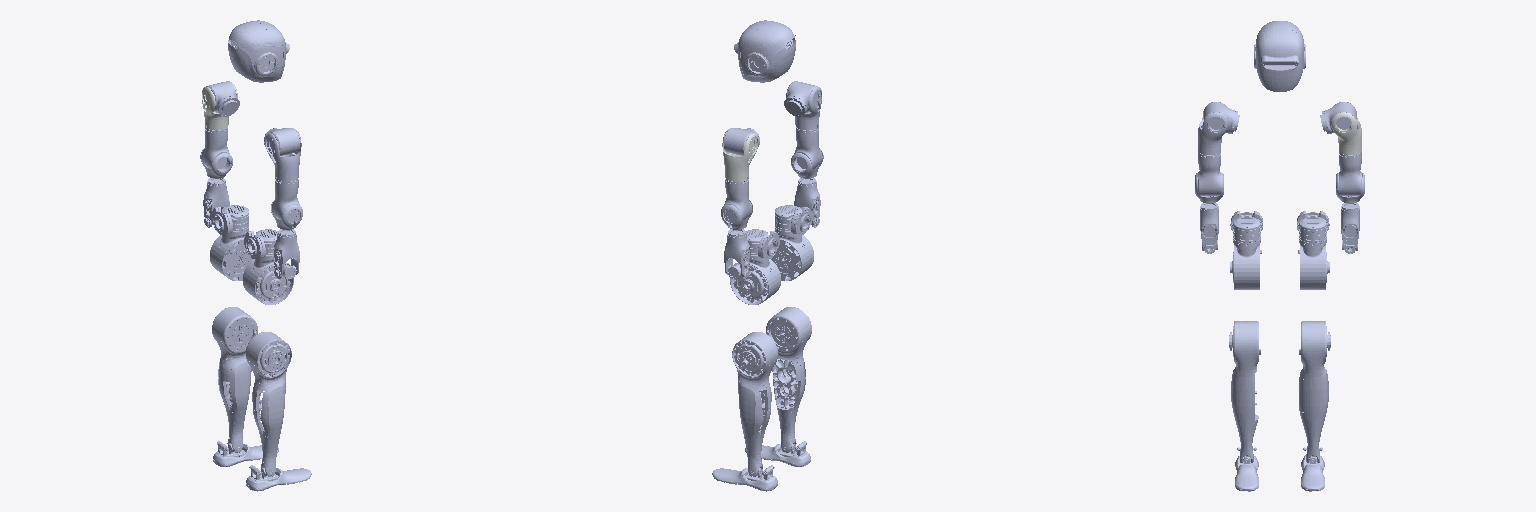
--- What the picture shows (computed from the rendered views, not written in the file) ---
The picture shows the robot from 3 angles, left to right: view 1: azimuth 30°, elevation 25°; view 2: azimuth 150°, elevation 25°; view 3: azimuth 270°, elevation 25°; orthographic projection.
Robot: Q1 — 30 links, 29 joints (29 revolute); root link pelvis_link; default pose: every joint at zero.
Links seen in each view (by area): view 1: R_knee_link, L_knee_link, head_pitch_link, R_hip_yaw_link, L_hip_yaw_link, R_ankle_roll_link, R_shoulder_roll_link, L_hip_roll_link, R_forearm_yaw_link, L_shoulder_yaw_link, L_ankle_roll_link, R_hip_roll_link (+5 smaller); view 2: L_knee_link, R_knee_link, head_pitch_link, L_hip_yaw_link, R_hip_yaw_link, L_ankle_roll_link, L_shoulder_roll_link, R_hip_roll_link, L_forearm_yaw_link, R_shoulder_yaw_link, R_ankle_roll_link, L_hip_roll_link (+5 smaller); view 3: L_knee_link, R_knee_link, head_pitch_link, L_hip_yaw_link, R_hip_yaw_link, L_shoulder_yaw_link, R_shoulder_yaw_link, L_shoulder_roll_link, R_shoulder_roll_link, L_hip_roll_link, R_hip_roll_link, L_forearm_yaw_link (+5 smaller).
Boxes of the visible links, x1=… form: R_knee_link: x1=246, y1=332, x2=291, y2=476; L_knee_link: x1=212, y1=307, x2=257, y2=452; head_pitch_link: x1=228, y1=20, x2=289, y2=82; R_hip_yaw_link: x1=243, y1=255, x2=293, y2=304; L_hip_yaw_link: x1=210, y1=227, x2=252, y2=280; R_ankle_roll_link: x1=246, y1=465, x2=311, y2=491; R_shoulder_roll_link: x1=265, y1=129, x2=301, y2=181; L_hip_roll_link: x1=211, y1=205, x2=248, y2=234; R_forearm_yaw_link: x1=274, y1=229, x2=299, y2=278; L_shoulder_yaw_link: x1=201, y1=127, x2=229, y2=169; L_ankle_roll_link: x1=213, y1=441, x2=278, y2=466; R_hip_roll_link: x1=244, y1=229, x2=277, y2=258; L_knee_link: x1=732, y1=332, x2=777, y2=476; R_knee_link: x1=766, y1=307, x2=811, y2=452; head_pitch_link: x1=734, y1=20, x2=795, y2=82; L_hip_yaw_link: x1=730, y1=255, x2=780, y2=304; R_hip_yaw_link: x1=771, y1=227, x2=813, y2=280; L_ankle_roll_link: x1=712, y1=465, x2=777, y2=491; L_shoulder_roll_link: x1=722, y1=129, x2=758, y2=181; R_hip_roll_link: x1=775, y1=205, x2=812, y2=234; L_forearm_yaw_link: x1=724, y1=229, x2=749, y2=278; R_shoulder_yaw_link: x1=794, y1=127, x2=822, y2=169; R_ankle_roll_link: x1=745, y1=441, x2=810, y2=466; L_hip_roll_link: x1=746, y1=229, x2=779, y2=258; L_knee_link: x1=1299, y1=321, x2=1330, y2=462; R_knee_link: x1=1229, y1=321, x2=1260, y2=462; head_pitch_link: x1=1254, y1=21, x2=1305, y2=91; L_hip_yaw_link: x1=1298, y1=238, x2=1329, y2=289; R_hip_yaw_link: x1=1230, y1=238, x2=1261, y2=289; L_shoulder_yaw_link: x1=1339, y1=152, x2=1361, y2=195; R_shoulder_yaw_link: x1=1198, y1=152, x2=1220, y2=195; L_shoulder_roll_link: x1=1331, y1=102, x2=1361, y2=154; R_shoulder_roll_link: x1=1198, y1=102, x2=1228, y2=154; L_hip_roll_link: x1=1297, y1=211, x2=1329, y2=242; R_hip_roll_link: x1=1230, y1=211, x2=1262, y2=242; L_forearm_yaw_link: x1=1341, y1=203, x2=1359, y2=253.
Size in the robot's own frame: 0.2521 by 0.5935 by 1.72 metres.
Meshes: 30 distinct files referenced, 24 mesh visuals loaded (24 binary STL); not drawn: 6 (reference not matched to a file when rendering).

The robot description file, URDF, robot "Q1":
<?xml version="1.0" encoding="utf-8"?>
<robot name="Q1">
<!-- pelvis -->
  <link name="pelvis_link">
    <inertial>
      <origin xyz="-0.0487762750387871 -9.11331157705215E-19 -0.0596500367715889" rpy="0 0 0" />
      <mass value="4.85375453300402" />
      <inertia ixx="0.0338660906248352" ixy="7.84543415810989E-18" ixz="2.23402732944577E-05" iyy="0.0157992435830402" iyz="-5.16210957298333E-18" izz="0.0392683813104757" />
    </inertial>
    <visual>
      <origin xyz="0 0 0" rpy="0 0 0" />
      <geometry>
        <mesh filename="package://Q1/meshes/pelvis_link.STL" />
      </geometry>
      <material name="">
        <color rgba="0.792156862745098 0.819607843137255 0.933333333333333 1" />
      </material>
    </visual>
    <collision>
      <origin xyz="-0.1 0 -0.05" rpy="0 0 0" />
      <geometry>
        <box size="0.08 0.35 0.1"/>
        <!-- <mesh filename="package://Q1/meshes/pelvis_link.STL" /> -->
      </geometry>
    </collision>
  </link>

<!-- Left leg -->
  <link name="L_hip_roll_link">
    <inertial>
      <origin xyz="-0.0141876569739443 -3.74949976629513E-06 0.00614400116829972" rpy="0 0 0" />
      <mass value="1.25324354201009" />
      <inertia ixx="0.00131833796382136" ixy="-1.82413613026061E-07" ixz="-3.76732121233135E-05" iyy="0.0017092864744351" iyz="-1.36088720808342E-07" izz="0.00213328110485283" />
    </inertial>
    <visual>
      <origin xyz="0 0 0" rpy="0 0 0" />
      <geometry>
        <mesh filename="package://Q1/meshes/L_hip_roll_link.STL" />
      </geometry>
      <material name="">
        <color rgba="0.792156862745098 0.819607843137255 0.933333333333333 1" />
      </material>
    </visual>
    <collision>
      <origin xyz="0 0 0" rpy="0 0 0" />
      <geometry>
        <!-- <mesh filename="package://Q1/meshes/L_hip_roll_link.STL" /> -->
        <cylinder radius="0.025" length="0.017"/>
      </geometry>
    </collision>
  </link>
  <joint name="L_hip_roll_joint" type="revolute"><!-- EC-A8112-P1-18 -->
    <origin xyz="0 0.115 -0.05874" rpy="0 0 0" />
    <parent link="pelvis_link" />
    <child link="L_hip_roll_link" />
    <axis xyz="1 0 0" />
    <limit lower="-0.12" upper="0.83" effort="90" velocity="16.441001554" />
  </joint>
  <link name="L_hip_yaw_link">
    <inertial>
      <origin xyz="-6.22829924863006E-10 -3.97470999169425E-09 -0.127754873862154" rpy="0 0 0" />
      <mass value="3.64631909766459" />
      <inertia ixx="0.0111351389929927" ixy="3.30651426492064E-09" ixz="9.12301100309305E-10" iyy="0.0139968062197672" iyz="1.82839173063689E-09" izz="0.0074705457114106" />
    </inertial>
    <visual>
      <origin xyz="0 0 0" rpy="0 0 0" />
      <geometry>
        <mesh filename="package://Q1/meshes/L_hip_yaw_link.STL" />
      </geometry>
      <material name="">
        <color rgba="0.792156862745098 0.819607843137255 0.933333333333333 1" />
      </material>
    </visual>
    <collision>
      <origin xyz="-2.7849E-05 -0.0008477 -0.11745" rpy="1.570796327 0 0" />
      <geometry>
        <!-- <mesh filename="package://Q1/meshes/L_hip_yaw_link.STL" /> -->
        <cylinder radius="0.025" length="0.04"/>
      </geometry>
    </collision>
  </link>
  <joint name="L_hip_yaw_joint" type="revolute"><!-- EC-6408-P2-25 -->
    <origin xyz="0 0 0" rpy="0 0 0" />
    <parent link="L_hip_roll_link" />
    <child link="L_hip_yaw_link" />
    <axis xyz="0 0 1" />
    <limit lower="-0.89" upper="0.89" effort="60" velocity="15.603243513" />
  </joint>
  <link name="L_hip_pitch_link">
    <inertial>
      <origin xyz="0.0118734795001622 -1.3689291630814E-08 -0.135284360088896" rpy="0 0 0" />
      <mass value="2.04935184270293" />
      <inertia ixx="0.0322378233994432" ixy="9.83274049113261E-10" ixz="0.000317233508166188" iyy="0.0312492836829024" iyz="2.96866335989203E-09" izz="0.00859313858129664" />
    </inertial>
    <visual>
      <origin xyz="0 0 0" rpy="0 0 0" />
      <geometry>
        <mesh filename="package://Q1/meshes/L_hip_pitch_link.STL" />
      </geometry>
      <material name="">
        <color rgba="0.792156862745098 0.819607843137255 0.933333333333333 1" />
      </material>
    </visual>
    <collision>
      <origin xyz="0 0 -0.12" rpy="0 0 0" />
      <geometry>
        <cylinder radius="0.025" length="0.09"/>
      </geometry>
    </collision>
  </link>
  <joint name="L_hip_pitch_joint" type="revolute"><!-- EC-A10020-P2-24 -->
    <origin xyz="0 0 -0.14" rpy="0 0 0" />
    <parent link="L_hip_yaw_link" />
    <child link="L_hip_pitch_link" />
    <axis xyz="0 1 0" />
    <limit lower="-0.89" upper="1.64" effort="330" velocity="12.88052988" />
  </joint>
  <link name="L_knee_link">
    <inertial>
      <origin xyz="0.00610185508162121 -1.09286336369419E-08 -0.130319266126611" rpy="0 0 0" />
      <mass value="5.84550624070991" />
      <inertia ixx="0.103290256491282" ixy="-4.36471539759122E-09" ixz="0.00248994631602866" iyy="0.106156568969131" iyz="-6.56129372231401E-10" izz="0.00906089499816433" />
    </inertial>
    <visual>
      <origin xyz="0 0 0" rpy="0 0 0" />
      <geometry>
        <mesh filename="package://Q1/meshes/L_knee_link.STL" />
      </geometry>
      <material name="">
        <color rgba="0.792156862745098 0.819607843137255 0.933333333333333 1" />
      </material>
    </visual>
    <collision>
      <origin xyz="0 0 -0.19" rpy="0 0 0" />
      <geometry>
        <cylinder radius="0.025" length="0.1"/>
      </geometry>
    </collision>
    <collision>
      <origin xyz="0 0 -0.35" rpy="0 0 0" />
      <geometry>
        <cylinder radius="0.025" length="0.1"/>
      </geometry>
    </collision>
    <collision>
      <origin xyz="0 0 0.0" rpy="1.570796327 0 0" />
      <geometry>
        <cylinder radius="0.025" length="0.1"/>
      </geometry>
    </collision>
  </link>
  <joint name="L_knee_joint" type="revolute"><!-- EC-A10020-P2-24 -->
    <origin xyz="0 0 -0.285" rpy="0 0 0" />
    <parent link="L_hip_pitch_link" />
    <child link="L_knee_link" />
    <axis xyz="0 1 0" />
    <limit lower="-0.1" upper="2.35" effort="330" velocity="12.88052988" />
  </joint>
  <link name="L_ankle_pitch_link">
    <inertial>
      <origin xyz="1.50453614986374E-19 0 0" rpy="0 0 0" />
      <mass value="0.00495302360887897" />
      <inertia ixx="7.89862404763441E-07" ixy="-5.96160245654892E-25" ixz="1.82938354400023E-24" iyy="1.2798828296822E-07" iyz="-2.82115422426287E-24" izz="8.38035368942849E-07" />
    </inertial>
    <visual>
      <origin xyz="0 0 0" rpy="0 0 0" />
      <geometry>
        <mesh filename="package://Q1/meshes/L_ankle_pitch_link.STL" />
      </geometry>
      <material name="">
        <color rgba="0.792156862745098 0.819607843137255 0.933333333333333 1" />
      </material>
    </visual>
    <collision>
      <origin xyz="0 0 0" rpy="0 0 0" />
      <geometry>
        <cylinder radius="0.001" length="0.001"/>
        <!-- <mesh filename="package://Q1/meshes/L_ankle_pitch_link.STL" /> -->
      </geometry>
    </collision>
  </link>
  <joint name="L_ankle_pitch_joint" type="revolute"><!-- EC-A4310-P2-36 -->
    <origin xyz="0 0 -0.451" rpy="0 0 0" />
    <parent link="L_knee_link" />
    <child link="L_ankle_pitch_link" />
    <axis xyz="0 1 0" />
    <limit lower="-0.43" upper="0.43" effort="36" velocity="9.320058206" />
  </joint>
  <link name="L_ankle_roll_link">
    <inertial>
      <origin xyz="0.034303989878725 0.230000022143615 -0.0341212606712048" rpy="0 0 0" />
      <mass value="0.700527444039911" />
      <inertia ixx="0.000476672716613184" ixy="-4.18118760679968E-09" ixz="0.00010510646806602" iyy="0.0032483279880811" iyz="6.20431199522967E-10" izz="0.00355171740661827" />
    </inertial>
    <visual>
      <origin xyz="0 0 0" rpy="0 0 0" />
      <geometry>
        <mesh filename="package://Q1/meshes/L_ankle_roll_link.STL" />
      </geometry>
      <material name="">
        <color rgba="0.792156862745098 0.819607843137255 0.933333333333333 1" />
      </material>
    </visual>
    <collision>
      <origin xyz="-0.068 0.032 -0.047" rpy="0 0 0"/>
      <geometry>
        <sphere radius="0.005"/>
      </geometry>
    </collision>
    <collision>
      <origin xyz="-0.068 -0.032 -0.047" rpy="0 0 0"/>
      <geometry>
        <sphere radius="0.005"/>
      </geometry>
    </collision>
    <collision>
      <origin xyz="-0.076 0 -0.047" rpy="0 0 0"/>
      <geometry>
        <sphere radius="0.005"/>
      </geometry>
    </collision>

    <collision>
      <origin xyz="0.148 0.032 -0.047" rpy="0 0 0"/>
      <geometry>
        <sphere radius="0.005"/>
      </geometry>
    </collision>
    <collision>
      <origin xyz="0.148 -0.032 -0.047" rpy="0 0 0"/>
      <geometry>
        <sphere radius="0.005"/>
      </geometry>
    </collision>
    <collision>
      <origin xyz="0.166 0 -0.047" rpy="0 0 0"/>
      <geometry>
        <sphere radius="0.005"/>
      </geometry>
    </collision>
  </link>
  <joint name="L_ankle_roll_joint" type="revolute"><!-- EC-A4310-P2-36 -->
    <origin xyz="0 0 0" rpy="0 0 0" />
    <parent link="L_ankle_pitch_link" />
    <child link="L_ankle_roll_link" />
    <axis xyz="1 0 0" />
    <limit lower="-0.43" upper="0.43" effort="36" velocity="9.320058206" />
  </joint>
<!-- Right leg -->
  <link name="R_hip_roll_link">
    <inertial>
      <origin xyz="-0.0141876569033487 3.75283373696411E-06 0.0061440013588332" rpy="0 0 0" />
      <mass value="1.25324353787124" />
      <inertia ixx="0.00131833795268296" ixy="1.82518219698434E-07" ixz="-3.76732072834159E-05" iyy="0.00170928646062036" iyz="1.36114793133514E-07" izz="0.00213328110797307" />
    </inertial>
    <visual>
      <origin xyz="0 0 0" rpy="0 0 0" />
      <geometry>
        <mesh filename="package://Q1/meshes/R_hip_roll_link.STL" />
      </geometry>
      <material name="">
        <color rgba="0.792156862745098 0.819607843137255 0.933333333333333 1" />
      </material>
    </visual>
    <collision>
      <origin xyz="0 0 0" rpy="0 0 0" />
      <geometry>
        <cylinder radius="0.025" length="0.017"/>
      </geometry>
    </collision>
  </link>
  <joint name="R_hip_roll_joint" type="revolute"><!-- EC-A8112-P1-18 -->
    <origin xyz="0 -0.115 -0.05874" rpy="0 0 0" />
    <parent link="pelvis_link" />
    <child link="R_hip_roll_link" />
    <axis xyz="1 0 0" />
    <limit lower="-0.83" upper="0.12" effort="90" velocity="16.441001554" />
  </joint>
  <link name="R_hip_yaw_link">
    <inertial>
      <origin xyz="1.61102011964652E-08 -1.27349166212376E-08 0.0122460458390036" rpy="0 0 0" />
      <mass value="3.64637969927244" />
      <inertia ixx="0.0111351662541288" ixy="3.37078960713146E-10" ixz="1.07331570079452E-10" iyy="0.0139968135041087" iyz="6.71529011063379E-10" izz="0.00747054788767058" />
    </inertial>
    <visual>
      <origin xyz="0 0 0" rpy="0 0 0" />
      <geometry>
        <mesh filename="package://Q1/meshes/R_hip_yaw_link.STL" />
      </geometry>
      <material name="">
        <color rgba="0.792156862745098 0.819607843137255 0.933333333333333 1" />
      </material>
    </visual>
    <collision>
      <origin xyz="-2.7849E-05 -0.0008477 -0.11745" rpy="1.570796327 0 0" />
      <geometry>
        <cylinder radius="0.025" length="0.04"/>
      </geometry>
    </collision>
  </link>
  <joint name="R_hip_yaw_joint" type="revolute"><!-- EC-6408-P2-25 -->
    <origin xyz="0 0 0" rpy="0 0 0" />
    <parent link="R_hip_roll_link" />
    <child link="R_hip_yaw_link" />
    <axis xyz="0 0 1" />
    <limit lower="-0.89" upper="0.89" effort="60" velocity="15.603243513" />
  </joint>
  <link name="R_hip_pitch_link">
    <inertial>
      <origin xyz="0.0118734977086639 -1.83007622944764E-08 -0.135284411296981" rpy="0 0 0" />
      <mass value="2.04935276321242" />
      <inertia ixx="0.0322378311563258" ixy="1.35839973256299E-09" ixz="0.000317238468510283" iyy="0.0312492917592858" iyz="1.67654419256679E-09" izz="0.00859314008536883" />
    </inertial>
    <visual>
      <origin xyz="0 0 0" rpy="0 0 0" />
      <geometry>
        <mesh filename="package://Q1/meshes/R_hip_pitch_link.STL" />
      </geometry>
      <material name="">
        <color rgba="0.792156862745098 0.819607843137255 0.933333333333333 1" />
      </material>
    </visual>
    <collision>
      <origin xyz="0 0 -0.12" rpy="0 0 0" />
      <geometry>
        <cylinder radius="0.025" length="0.09"/>
      </geometry>
    </collision>
  </link>
  <joint name="R_hip_pitch_joint" type="revolute"><!-- EC-A10020-P2-24 -->
    <origin xyz="0 0 -0.14" rpy="0 0 0" />
    <parent link="R_hip_yaw_link" />
    <child link="R_hip_pitch_link" />
    <axis xyz="0 1 0" />
    <limit lower="-0.89" upper="1.64" effort="330" velocity="12.88052988" />
  </joint>
  <link name="R_knee_link">
    <inertial>
      <origin xyz="0.00610184588200067 1.33535954793818E-08 -0.130319458287636" rpy="0 0 0" />
      <mass value="5.84551012436571" />
      <inertia ixx="0.103290592555704" ixy="6.89481487869816E-09" ixz="0.00248993087536182" iyy="0.106156898640285" iyz="-5.29040667291339E-10" izz="0.00906088945666182" />
    </inertial>
    <visual>
      <origin xyz="0 0 0" rpy="0 0 0" />
      <geometry>
        <mesh filename="package://Q1/meshes/R_knee_link.STL" />
      </geometry>
      <material name="">
        <color rgba="0.792156862745098 0.819607843137255 0.933333333333333 1" />
      </material>
    </visual>
    <collision>
      <origin xyz="0 0 -0.19" rpy="0 0 0" />
      <geometry>
        <cylinder radius="0.025" length="0.1"/>
      </geometry>
    </collision>
    <collision>
      <origin xyz="0 0 -0.35" rpy="0 0 0" />
      <geometry>
        <cylinder radius="0.025" length="0.1"/>
      </geometry>
    </collision>
    <collision>
      <origin xyz="0 0 0.0" rpy="1.570796327 0 0" />
      <geometry>
        <cylinder radius="0.025" length="0.1"/>
      </geometry>
    </collision>
  </link>
  <joint name="R_knee_joint" type="revolute"><!-- EC-A10020-P2-24 -->
    <origin xyz="0 0 -0.285" rpy="0 0 0" />
    <parent link="R_hip_pitch_link" />
    <child link="R_knee_link" />
    <axis xyz="0 1 0" />
    <limit lower="-0.1" upper="2.35" effort="330" velocity="12.88052988" />
  </joint>
  <link name="R_ankle_pitch_link">
    <inertial>
      <origin xyz="1.50453614986362E-19 0 6.93889390390723E-18" rpy="0 0 0" />
      <mass value="0.00495302360887897" />
      <inertia ixx="7.89862404763441E-07" ixy="5.9616024565489E-25" ixz="1.82938354400023E-24" iyy="1.2798828296822E-07" iyz="4.01347471557266E-24" izz="8.38035368942849E-07" />
    </inertial>
    <visual>
      <origin xyz="0 0 0" rpy="0 0 0" />
      <geometry>
        <mesh filename="package://Q1/meshes/R_ankle_pitch_link.STL" />
      </geometry>
      <material name="">
        <color rgba="0.792156862745098 0.819607843137255 0.933333333333333 1" />
      </material>
    </visual>
    <collision>
      <origin xyz="0 0 0" rpy="0 0 0" />
      <geometry>
        <cylinder radius="0.001" length="0.001"/>
      </geometry>
    </collision>
  </link>
  <joint name="R_ankle_pitch_joint" type="revolute"><!-- EC-A4310-P2-36 -->
    <origin xyz="0 0 -0.451" rpy="0 0 0" />
    <parent link="R_knee_link" />
    <child link="R_ankle_pitch_link" />
    <axis xyz="0 1 0" />
    <limit lower="-0.43" upper="0.43" effort="36" velocity="9.320058206" />
  </joint>
  <link name="R_ankle_roll_link">
    <inertial>
      <origin xyz="0.0343039957456198 -6.08531093848619E-08 -0.0341212535071516" rpy="0 0 0" />
      <mass value="0.700527402465685" />
      <inertia ixx="0.00047667302007158" ixy="5.00557754337453E-09" ixz="0.000105106590647267" iyy="0.00324832850684086" iyz="-1.05514204888278E-10" izz="0.00355171730474966" />
    </inertial>
    <visual>
      <origin xyz="0 0 0" rpy="0 0 0" />
      <geometry>
        <mesh filename="package://Q1/meshes/R_ankle_roll_link.STL" />
      </geometry>
      <material name="">
        <color rgba="0.792156862745098 0.819607843137255 0.933333333333333 1" />
      </material>
    </visual>
    <collision>
      <origin xyz="-0.068 0.032 -0.047" rpy="0 0 0"/>
      <geometry>
        <sphere radius="0.005"/>
      </geometry>
    </collision>
    <collision>
      <origin xyz="-0.068 -0.032 -0.047" rpy="0 0 0"/>
      <geometry>
        <sphere radius="0.005"/>
      </geometry>
    </collision>
    <collision>
      <origin xyz="-0.076 0 -0.047" rpy="0 0 0"/>
      <geometry>
        <sphere radius="0.005"/>
      </geometry>
    </collision>

    <collision>
      <origin xyz="0.148 0.032 -0.047" rpy="0 0 0"/>
      <geometry>
        <sphere radius="0.005"/>
      </geometry>
    </collision>
    <collision>
      <origin xyz="0.148 -0.032 -0.047" rpy="0 0 0"/>
      <geometry>
        <sphere radius="0.005"/>
      </geometry>
    </collision>
    <collision>
      <origin xyz="0.166 0 -0.047" rpy="0 0 0"/>
      <geometry>
        <sphere radius="0.005"/>
      </geometry>
    </collision>
  </link>
  <joint name="R_ankle_roll_joint" type="revolute"><!-- EC-A4310-P2-36 -->
    <origin xyz="0 0 0" rpy="0 0 0" />
    <parent link="R_ankle_pitch_link" />
    <child link="R_ankle_roll_link" />
    <axis xyz="1 0 0" />
    <limit lower="-0.43" upper="0.43" effort="36" velocity="9.320058206" />
  </joint>
<!-- torso -->
  <link name="torso_link">
    <inertial>
      <origin xyz="0.00053674 -1.8946E-09 0.23476" rpy="0 0 0" />
      <mass value="15.889" />
      <inertia ixx="0.2817047" ixy="1E-07" ixz="-0.0020139" iyy="0.2912939" iyz="0" izz="0.1172766" />
    </inertial>
    <visual>
      <origin xyz="0 0 0" rpy="0 0 0" />
      <geometry>
        <mesh filename="package://Q1/meshes/torso_link.STL" />
      </geometry>
      <material name="">
        <color rgba="0.86667 0.86667 0.8902 1" />
      </material>
    </visual>
    <collision>
      <origin xyz="-0.01 0 0.25" rpy="0 0 0" />
      <geometry>
        <box size="0.25 0.16 0.37"/>
      </geometry>
    </collision>
  </link>
  <joint name="pelvis_joint" type="revolute"><!-- CRA-RI60-80 -->
    <origin xyz="0 0 0" rpy="0 0 0" />
    <parent link="pelvis_link" />
    <child link="torso_link" />
    <axis xyz="0 0 1" />
    <limit lower="-1.04" upper="1.04" effort="42" velocity="8.58701992" />
  </joint>
<!-- Left arm -->
  <link name="L_shoulder_pitch_link">
    <inertial>
      <origin xyz="-0.00495795720364162 -0.00418267530064331 -3.95027721644681E-09" rpy="0 0 0" />
      <mass value="1.50011760905892" />
      <inertia ixx="0.00187402297134908" ixy="3.30316624760559E-05" ixz="-1.5724566950039E-08" iyy="0.00150513929190676" iyz="-3.20629087228975E-09" izz="0.00158895865973097" />
    </inertial>
    <visual>
      <origin xyz="0 0 0" rpy="-0.2618 0 0" />
      <geometry>
        <mesh filename="package://Q1/meshes/L_shoulder_pitch_link.STL" />
      </geometry>
      <material name="">
        <color rgba="0.792156862745098 0.819607843137255 0.933333333333333 1" />
      </material>
    </visual>
    <collision>
      <origin xyz="0 0 0" rpy="1.570796327 0 1.570796327"/>
      <geometry>
        <cylinder radius="0.025" length="0.03"/>
      </geometry>
    </collision>
  </link>
  <joint name="L_shoulder_pitch_joint" type="revolute"><!-- CRA-RI60-80 -->
    <origin xyz="0 0.2222 0.37445" rpy="0.2618 0 0" />
    <parent link="torso_link" />
    <child link="L_shoulder_pitch_link" />
    <axis xyz="0 1 0" />
    <limit lower="-1.48" upper="1.48" effort="42" velocity="8.58701992" />
  </joint>
  <link name="L_shoulder_roll_link">
    <inertial>
      <origin xyz="-0.00108082259395265 0.00237662147200235 -0.0619795684803297" rpy="0 0 0" />
      <mass value="0.548488874404492" />
      <inertia ixx="0.00143647468194247" ixy="-3.33011364832323E-06" ixz="5.86880632166666E-05" iyy="0.0017610979700737" iyz="-5.00767143394624E-05" izz="0.00117101030887955" />
    </inertial>
    <visual>
      <origin xyz="0 0 0" rpy="-0.2618 0 0" />
      <geometry>
        <mesh filename="package://Q1/meshes/L_shoulder_roll_link.STL" />
      </geometry>
      <material name="">
        <color rgba="0.898039215686275 0.917647058823529 0.929411764705882 1" />
      </material>
    </visual>
    <collision>
      <origin xyz="0 -0.001 -0.09" rpy="-0.2618 0 0" />
      <geometry>
        <cylinder radius="0.02" length="0.03"/>
      </geometry>
    </collision>
  </link>
  <joint name="L_shoulder_roll_joint" type="revolute"><!-- CRA-RI60-80 -->
    <origin xyz="0 0 0" rpy="0 0 0" />
    <parent link="L_shoulder_pitch_link" />
    <child link="L_shoulder_roll_link" />
    <axis xyz="1 0 0" />
    <limit lower="-0.12" upper="3.17" effort="42" velocity="8.58701992" />
  </joint>
  <link name="L_shoulder_yaw_link">
    <inertial>
      <origin xyz="-0.00328645079074991 -1.71252852801396E-06 0.0490996899087148" rpy="0 0 0" />
      <mass value="1.95077707562053" />
      <inertia ixx="0.00575990022758829" ixy="5.95802003784262E-09" ixz="-0.000315713576176404" iyy="0.00564262154536922" iyz="2.26801753669372E-07" izz="0.0017237170003833" />
    </inertial>
    <visual>
      <origin xyz="0 0 0" rpy="0 0 -1.570796327" />
      <geometry>
        <mesh filename="package://Q1/meshes/L_shoulder_yaw_link.STL" />
      </geometry>
      <material name="">
        <color rgba="0.792156862745098 0.819607843137255 0.933333333333333 1" />
      </material>
    </visual>
    <collision>
      <origin xyz="0 0 0.05" rpy="0 0 -1.570796327" />
      <geometry>
        <cylinder radius="0.02" length="0.06"/>
        <!-- <mesh filename="package://Q1/meshes/L_shoulder_yaw_link.STL" /> -->
      </geometry>
    </collision>
  </link>
  <joint name="L_shoulder_yaw_joint" type="revolute"><!-- CRA-RI50-70 -->
    <origin xyz="0 -0.043643 -0.25143" rpy="-0.2618 0 0" />
    <parent link="L_shoulder_roll_link" />
    <child link="L_shoulder_yaw_link" />
    <axis xyz="0 0 1" />
    <limit lower="-1.69" upper="1.69" effort="23" velocity="10.157816247" />
  </joint>
  <link name="L_elbow_link">
    <inertial>
      <origin xyz="-0.00389353915584163 0.00283878922194339 -0.0251500598389047" rpy="0 0 0" />
      <mass value="0.25017827413194" />
      <inertia ixx="0.000329525905517911" ixy="-2.84485568102828E-06" ixz="2.19534152936334E-05" iyy="0.000512035760158062" iyz="9.25015534028615E-06" izz="0.000456707595153785" />
    </inertial>
    <visual>
      <origin xyz="0 0 0" rpy="0 0 -1.570796327" />
      <geometry>
        <mesh filename="package://Q1/meshes/L_elbow_link.STL" />
      </geometry>
      <material name="">
        <color rgba="0.792156862745098 0.819607843137255 0.933333333333333 1" />
      </material>
    </visual>
    <collision>
      <origin xyz="0 0 -0.06" rpy="0 0 -1.570796327" />
      <geometry>
        <cylinder radius="0.02" length="0.03"/>
      </geometry>
    </collision>
  </link>
  <joint name="L_elbow_joint" type="revolute"><!-- CRA-RI50-70 -->
    <origin xyz="0 0 0" rpy="0 0 0" />
    <parent link="L_shoulder_yaw_link" />
    <child link="L_elbow_link" />
    <axis xyz="1 0 0" />
    <limit lower="-1.95" upper="0.87" effort="23" velocity="10.157816247" />
  </joint>
  <link name="L_forearm_yaw_link">
    <inertial>
      <origin xyz="-0.0019179869798028 -1.25212053114776E-07 0.106103751360934" rpy="0 0 0" />
      <mass value="1.04944082700571" />
      <inertia ixx="0.00202555517805004" ixy="5.62691576977426E-09" ixz="-5.87647945181155E-05" iyy="0.002122070152465" iyz="-2.2578268645124E-09" izz="0.000721248521569186" />
    </inertial>
    <visual>
      <origin xyz="0 0 0" rpy="0 0 0" />
      <geometry>
        <mesh filename="package://Q1/meshes/L_forearm_yaw_link.STL" />
      </geometry>
      <material name="">
        <color rgba="0.792156862745098 0.819607843137255 0.933333333333333 1" />
      </material>
    </visual>
    <collision>
      <origin xyz="0 0 0.082" rpy="0 0 0" />
      <geometry>
        <cylinder radius="0.025" length="0.03"/>
      </geometry>
    </collision>
  </link>
  <joint name="L_forearm_yaw_joint" type="revolute"><!-- CRA-RI40-52 -->
    <origin xyz="0 0 -0.231" rpy="0 0 0" />
    <parent link="L_elbow_link" />
    <child link="L_forearm_yaw_link" />
    <axis xyz="0 0 1" />
    <limit lower="-1.53" upper="1.53" effort="8.3" velocity="12.356931104" />
  </joint>
  <link name="L_wrist_roll_link">
    <inertial>
      <origin xyz="-1.48840306979354E-05 -0.00342715354445414 -3.20617582838523E-06" rpy="0 0 0" />
      <mass value="0.24994172305006" />
      <inertia ixx="8.33729148800578E-05" ixy="1.27519738119418E-08" ixz="-1.77957527391334E-08" iyy="6.15952338264229E-05" iyz="2.75090434504312E-09" izz="8.51129188951173E-05" />
    </inertial>
    <visual>
      <origin xyz="0 0 0" rpy="0 0 0" />
      <geometry>
        <mesh filename="package://Q1/meshes/L_wrist_roll_link.STL" />
      </geometry>
      <material name="">
        <color rgba="0.792156862745098 0.819607843137255 0.933333333333333 1" />
      </material>
    </visual>
    <collision>
      <origin xyz="0 0 0" rpy="0 1.570796327 0" />
      <geometry>
        <cylinder radius="0.015" length="0.01"/>
      </geometry>
    </collision>
  </link>
  <joint name="L_wrist_roll_joint" type="revolute"><!-- CRA-RI30-40 -->
    <origin xyz="0 0 0" rpy="0 0 0" />
    <parent link="L_forearm_yaw_link" />
    <child link="L_wrist_roll_link" />
    <axis xyz="1 0 0" />
    <limit lower="-2.3" upper="1.39" effort="3.3" velocity="12.356931104" />
  </joint>
  <link name="L_wrist_pitch_link">
    <inertial>
      <origin xyz="-5.63786121213732E-07 0.00812966481253333 -0.0518117287098212" rpy="0 0 0" />
      <mass value="0.150455726882542" />
      <inertia ixx="0.000108077289929613" ixy="1.47922508280712E-09" ixz="8.29368804505279E-11" iyy="9.0143623087068E-05" iyz="-3.56125612469369E-05" izz="5.85855867243114E-05" />
    </inertial>
    <visual>
      <origin xyz="0 0 0" rpy="0 0 0" />
      <geometry>
        <mesh filename="package://Q1/meshes/L_wrist_pitch_link.STL" />
      </geometry>
      <material name="">
        <color rgba="0.792156862745098 0.819607843137255 0.933333333333333 1" />
      </material>
    </visual>
    <collision>
      <origin xyz="0 0 -0.16" rpy="0 0 0" />
      <geometry>
        <box size="0.06 0.03 0.18"/>
      </geometry>
    </collision>
  </link>
  <joint name="L_wrist_pitch_joint" type="revolute"><!-- CRA-RI30-40 -->
    <origin xyz="0 0 0" rpy="0 0 0" />
    <parent link="L_wrist_roll_link" />
    <child link="L_wrist_pitch_link" />
    <axis xyz="0 1 0" />
    <limit lower="-1.78" upper="1.67" effort="3.3" velocity="12.356931104" />
  </joint>
<!-- Right arm -->
  <link name="R_shoulder_pitch_link">
    <inertial>
      <origin xyz="-0.00495802206787404 0.00418267582951914 -7.90797278771294E-08" rpy="0 0 0" />
      <mass value="1.50011657804918" />
      <inertia ixx="0.00187402350275849" ixy="-3.30332265847332E-05" ixz="-7.84415394758733E-09" iyy="0.00150513750159977" iyz="2.28818644237914E-09" izz="0.00158896079855835" />
    </inertial>
    <visual>
      <origin xyz="0 0 0" rpy="0.2618 0 0" />
      <geometry>
        <mesh filename="package://Q1/meshes/R_shoulder_pitch_link.STL" />
      </geometry>
      <material name="">
        <color rgba="0.792156862745098 0.819607843137255 0.933333333333333 1" />
      </material>
    </visual>
    <collision>
      <origin xyz="0 0 0" rpy="1.570796327 0 1.570796327"/>
      <geometry>
        <cylinder radius="0.025" length="0.03"/>
      </geometry>
    </collision>
  </link>
  <joint name="R_shoulder_pitch_joint" type="revolute"><!-- CRA-RI60-80 -->
    <origin xyz="0 -0.2222 0.37445" rpy="-0.2618 0 0" />
    <parent link="torso_link" />
    <child link="R_shoulder_pitch_link" />
    <axis xyz="0 1 0" />
    <limit lower="-1.48" upper="1.48" effort="42" velocity="8.58701992" />
  </joint>
  <link name="R_shoulder_roll_link">
    <inertial>
      <origin xyz="-0.00107995872117087 -0.00237583438433753 -0.0619790581829736" rpy="0 0 0" />
      <mass value="0.548544608828653" />
      <inertia ixx="0.00143631889336441" ixy="3.33596554308688E-06" ixz="5.87789958686636E-05" iyy="0.0017608995912366" iyz="5.00431693941603E-05" izz="0.00117101889882126" />
    </inertial>
    <visual>
      <origin xyz="0 0 0" rpy="0.2618 0 0" />
      <geometry>
        <mesh filename="package://Q1/meshes/R_shoulder_roll_link.STL" />
      </geometry>
      <material name="">
        <color rgba="0.792156862745098 0.819607843137255 0.933333333333333 1" />
      </material>
    </visual>
    <collision>
      <origin xyz="0 -0.001 -0.09" rpy="0.2618 0 0" />
      <geometry>
        <cylinder radius="0.02" length="0.03"/>
      </geometry>
    </collision>
  </link>
  <joint name="R_shoulder_roll_joint" type="revolute"><!-- CRA-RI60-80 -->
    <origin xyz="0 0 0" rpy="0 0 0" />
    <parent link="R_shoulder_pitch_link" />
    <child link="R_shoulder_roll_link" />
    <axis xyz="1 0 0" />
    <limit lower="-3.17" upper="0.12" effort="42" velocity="8.58701992" />
  </joint>
  <link name="R_shoulder_yaw_link">
    <inertial>
      <origin xyz="-0.00328637335590283 1.65717239394847E-06 0.0490998090017274" rpy="0 0 0" />
      <mass value="1.95078429643153" />
      <inertia ixx="0.00575988445324315" ixy="-3.22390758011475E-09" ixz="-0.000315703759879665" iyy="0.00564260187351902" iyz="-2.36710876067664E-07" izz="0.00172372509518998" />
    </inertial>
    <visual>
      <origin xyz="0 0 0" rpy="0 0 1.570796327" />
      <geometry>
        <mesh filename="package://Q1/meshes/R_shoulder_yaw_link.STL" />
      </geometry>
      <material name="">
        <color rgba="0.792156862745098 0.819607843137255 0.933333333333333 1" />
      </material>
    </visual>
    <collision>
      <origin xyz="0 0 0.05" rpy="0 0 -1.570796327" />
      <geometry>
        <cylinder radius="0.02" length="0.06"/>
      </geometry>
    </collision>
  </link>
  <joint name="R_shoulder_yaw_joint" type="revolute"><!-- CRA-RI50-70 -->
    <origin xyz="0 0.043643 -0.25143" rpy="0.2618 0 0" />
    <parent link="R_shoulder_roll_link" />
    <child link="R_shoulder_yaw_link" />
    <axis xyz="0 0 1" />
    <limit lower="-1.69" upper="1.69" effort="23" velocity="10.157816247" />
  </joint>
  <link name="R_elbow_link">
    <inertial>
      <origin xyz="-0.00389476701303175 -0.00283010868455533 -0.0251598722238591" rpy="0 0 0" />
      <mass value="0.250208538636712" />
      <inertia ixx="0.000329530169614741" ixy="2.76079103505772E-06" ixz="2.19552955696691E-05" iyy="0.000511998453902405" iyz="-9.24162905717076E-06" izz="0.000456679899635677" />
    </inertial>
    <visual>
      <origin xyz="0 0 0" rpy="0 0 1.570796327" />
      <geometry>
        <mesh filename="package://Q1/meshes/R_elbow_link.STL" />
      </geometry>
      <material name="">
        <color rgba="0.792156862745098 0.819607843137255 0.933333333333333 1" />
      </material>
    </visual>
    <collision>
      <origin xyz="0 0 -0.06" rpy="0 0 1.570796327" />
      <geometry>
        <cylinder radius="0.02" length="0.03"/>
      </geometry>
    </collision>
  </link>
  <joint name="R_elbow_joint" type="revolute"><!-- CRA-RI50-70 -->
    <origin xyz="0 0 0" rpy="0 0 0" />
    <parent link="R_shoulder_yaw_link" />
    <child link="R_elbow_link" />
    <axis xyz="1 0 0" />
    <limit lower="-0.87" upper="1.95" effort="23" velocity="10.157816247" />
  </joint>
  <link name="R_forearm_yaw_link">
    <inertial>
      <origin xyz="-0.00191812714203981 -1.93360864597647E-07 0.106102238720602" rpy="0 0 0" />
      <mass value="1.04948017603507" />
      <inertia ixx="0.00202555748383802" ixy="-6.12112083015588E-09" ixz="-5.87626468557779E-05" iyy="0.00212205767986656" iyz="-5.3482123752708E-09" izz="0.000721284921582001" />
    </inertial>
    <visual>
      <origin xyz="0 0 0" rpy="0 0 0" />
      <geometry>
        <mesh filename="package://Q1/meshes/R_forearm_yaw_link.STL" />
      </geometry>
      <material name="">
        <color rgba="0.792156862745098 0.819607843137255 0.933333333333333 1" />
      </material>
    </visual>
    <collision>
      <origin xyz="0 0 0.082" rpy="0 0 0" />
      <geometry>
        <cylinder radius="0.025" length="0.03"/>
      </geometry>
    </collision>
  </link>
  <joint name="R_forearm_yaw_joint" type="revolute"><!-- CRA-RI40-52 -->
    <origin xyz="0 0 -0.231" rpy="0 0 0" />
    <parent link="R_elbow_link" />
    <child link="R_forearm_yaw_link" />
    <axis xyz="0 0 1" />
    <limit lower="-1.53" upper="1.53" effort="8.3" velocity="12.356931104" />
  </joint>
  <link name="R_wrist_roll_link">
    <inertial>
      <origin xyz="-1.48739126234007E-05 0.0034271535183584 -3.18352502814978E-06" rpy="0 0 0" />
      <mass value="0.249941692839846" />
      <inertia ixx="8.33729109242616E-05" ixy="-1.27399507504747E-08" ixz="-1.78130623228303E-08" iyy="6.15952221189524E-05" iyz="-2.72314084654157E-09" izz="8.51129096598035E-05" />
    </inertial>
    <visual>
      <origin xyz="0 0 0" rpy="0 0 0" />
      <geometry>
        <mesh filename="package://Q1/meshes/R_wrist_roll_link.STL" />
      </geometry>
      <material name="">
        <color rgba="0.792156862745098 0.819607843137255 0.933333333333333 1" />
      </material>
    </visual>
    <collision>
      <origin xyz="0 0 0" rpy="0 1.570796327 0" />
      <geometry>
        <cylinder radius="0.015" length="0.01"/>
      </geometry>
    </collision>
  </link>
  <joint name="R_wrist_roll_joint" type="revolute"><!-- CRA-RI30-40 -->
    <origin xyz="0 0 0" rpy="0 0 0" />
    <parent link="R_forearm_yaw_link" />
    <child link="R_wrist_roll_link" />
    <axis xyz="1 0 0" />
    <limit lower="-1.39" upper="2.3" effort="3.3" velocity="12.356931104" />
  </joint>
  <link name="R_wrist_pitch_link">
    <inertial>
      <origin xyz="4.50781296785475E-07 -0.00812859839613109 -0.0518129718936489" rpy="0 0 0" />
      <mass value="0.150463482385983" />
      <inertia ixx="0.000108077969009104" ixy="9.06255747030998E-10" ixz="2.62193092852931E-11" iyy="9.01455762053942E-05" iyz="3.5610401266392E-05" izz="5.85887230654124E-05" />
    </inertial>
    <visual>
      <origin xyz="0 0 0" rpy="0 0 0" />
      <geometry>
        <mesh filename="package://Q1/meshes/R_wrist_pitch_link.STL" />
      </geometry>
      <material name="">
        <color rgba="0.792156862745098 0.819607843137255 0.933333333333333 1" />
      </material>
    </visual>
    <collision>
      <origin xyz="0 0 -0.16" rpy="0 0 0" />
      <geometry>
        <box size="0.06 0.03 0.18"/>
      </geometry>
    </collision>
  </link>
  <joint name="R_wrist_pitch_joint" type="revolute"><!-- CRA-RI30-40 -->
    <origin xyz="0 0 0" rpy="0 0 0" />
    <parent link="R_wrist_roll_link" />
    <child link="R_wrist_pitch_link" />
    <axis xyz="0 1 0" />
    <limit lower="-1.78" upper="1.67" effort="3.3" velocity="12.356931104" />
  </joint>
<!-- Head -->
  <link name="head_yaw_link">
    <inertial>
      <origin xyz="7.49133747551065E-05 1.69107871851368E-09 -0.0309122980529686" rpy="0 0 0" />
      <mass value="0.801875605020622" />
      <inertia ixx="0.000831181171188023" ixy="-3.13601566338686E-12" ixz="-5.64499744094677E-07" iyy="0.000326037079423328" iyz="2.52887610891004E-11" izz="0.00106957415110737" />
    </inertial>
    <visual>
      <origin xyz="0 0 0" rpy="0 0 0" />
      <geometry>
        <mesh filename="package://Q1/meshes/head_yaw_link.STL" />
      </geometry>
      <material name="">
        <color rgba="0.792156862745098 0.819607843137255 0.933333333333333 1" />
      </material>
    </visual>
    <collision>
      <origin xyz="0 0 0" rpy="0 0 0" />
      <geometry>
        <box size="0.01 0.01 0.01"/>
      </geometry>
    </collision>
  </link>
  <joint name="head_yaw_joint" type="revolute">
    <origin xyz="0.012 0 0.617" rpy="0 0 0" />
    <parent link="torso_link" />
    <child link="head_yaw_link" />
    <axis xyz="0 0 1" />
    <limit lower="-1.57" upper="1.57" effort="2.52" velocity="29.216811679" />
  </joint>
  <link name="head_pitch_link">
    <inertial>
      <origin xyz="0.038564 -0.00051032 -0.0049167" rpy="0 0 0" />
      <mass value="0.8024" />
      <inertia ixx="0.0052548" ixy="1.3293E-06" ixz="0.00042557" iyy="0.0059555" iyz="-6.1007E-06" izz="0.0059314" />
    </inertial>
    <visual>
      <origin xyz="0 0 0" rpy="0 0 0" />
      <geometry>
        <mesh filename="package://Q1/meshes/head_pitch_link.STL" />
      </geometry>
      <material name="">
        <color rgba="0.79216 0.81961 0.93333 1" />
      </material>
    </visual>
    <collision>
      <origin xyz="0 0 0" rpy="0 0 0" />
      <geometry>
        <box size="0.01 0.12 0.12"/>
      </geometry>
    </collision>
  </link>
  <joint name="head_pitch_joint" type="revolute">
    <origin xyz="0 0 0" rpy="0 0 0" />
    <parent link="head_yaw_link" />
    <child link="head_pitch_link" />
    <axis xyz="0 1 0" />
    <limit lower="-0.38" upper="0.33" effort="1.26" velocity="58.433623357" />
  </joint>
</robot>
